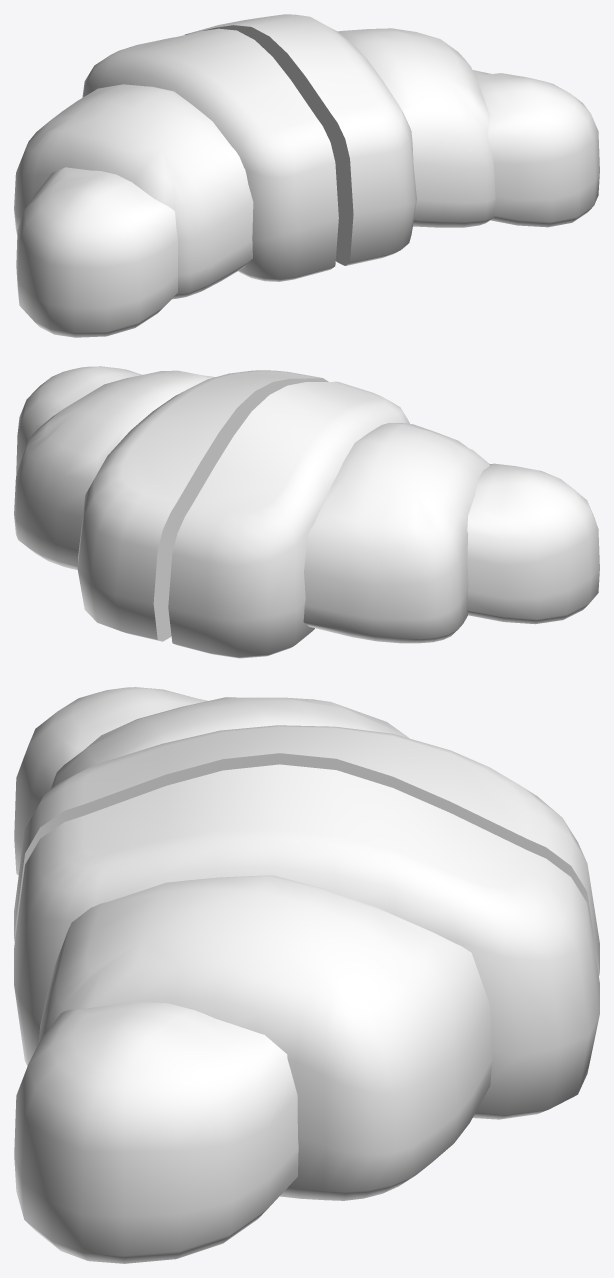
Rendered from Croissant_half_02.01.fbx.
3 views of the same model, one above another, from view 1: azimuth 30°, elevation 25°; view 2: azimuth 150°, elevation 25°; view 3: azimuth 270°, elevation 25° (orthographic). The views are drawn at different scales.
Parts seen in each view (by area): view 1: Croissant_half_04.001, Croissant_half_03.001; view 2: Croissant_half_04.001, Croissant_half_03.001; view 3: Croissant_half_03.001, Croissant_half_04.001.
Boxes of the visible parts, <box> form: Croissant_half_04.001: <box>14,28,338,337</box>; Croissant_half_03.001: <box>185,14,599,265</box>; Croissant_half_04.001: <box>168,381,599,658</box>; Croissant_half_03.001: <box>14,366,328,641</box>; Croissant_half_03.001: <box>14,764,599,1263</box>; Croissant_half_04.001: <box>14,687,599,975</box>.
Bounding box in the file's own units: 153 × 50.15 × 87.7.
